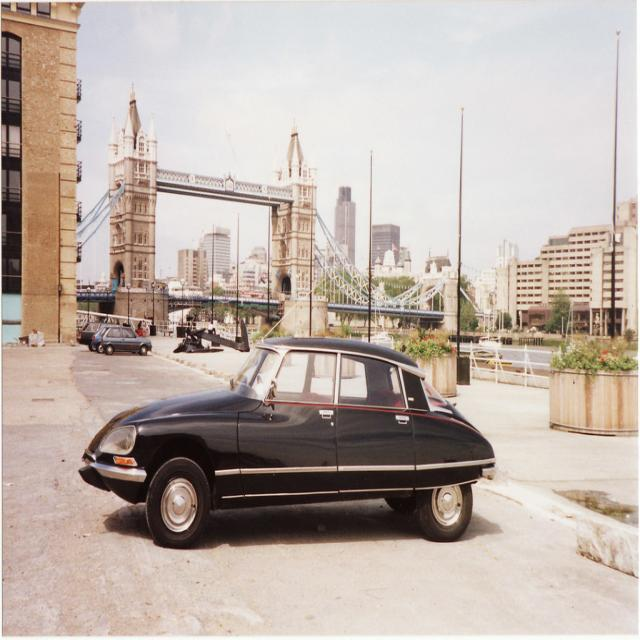car: (78, 278, 496, 541), (100, 325, 153, 352)
